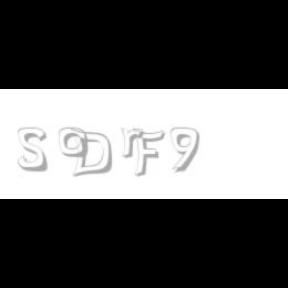9: (171, 128, 200, 172)
D: (70, 128, 112, 178)
F: (132, 128, 164, 178)
S: (17, 128, 48, 172)
o: (58, 128, 88, 158)
r: (120, 128, 148, 158)
